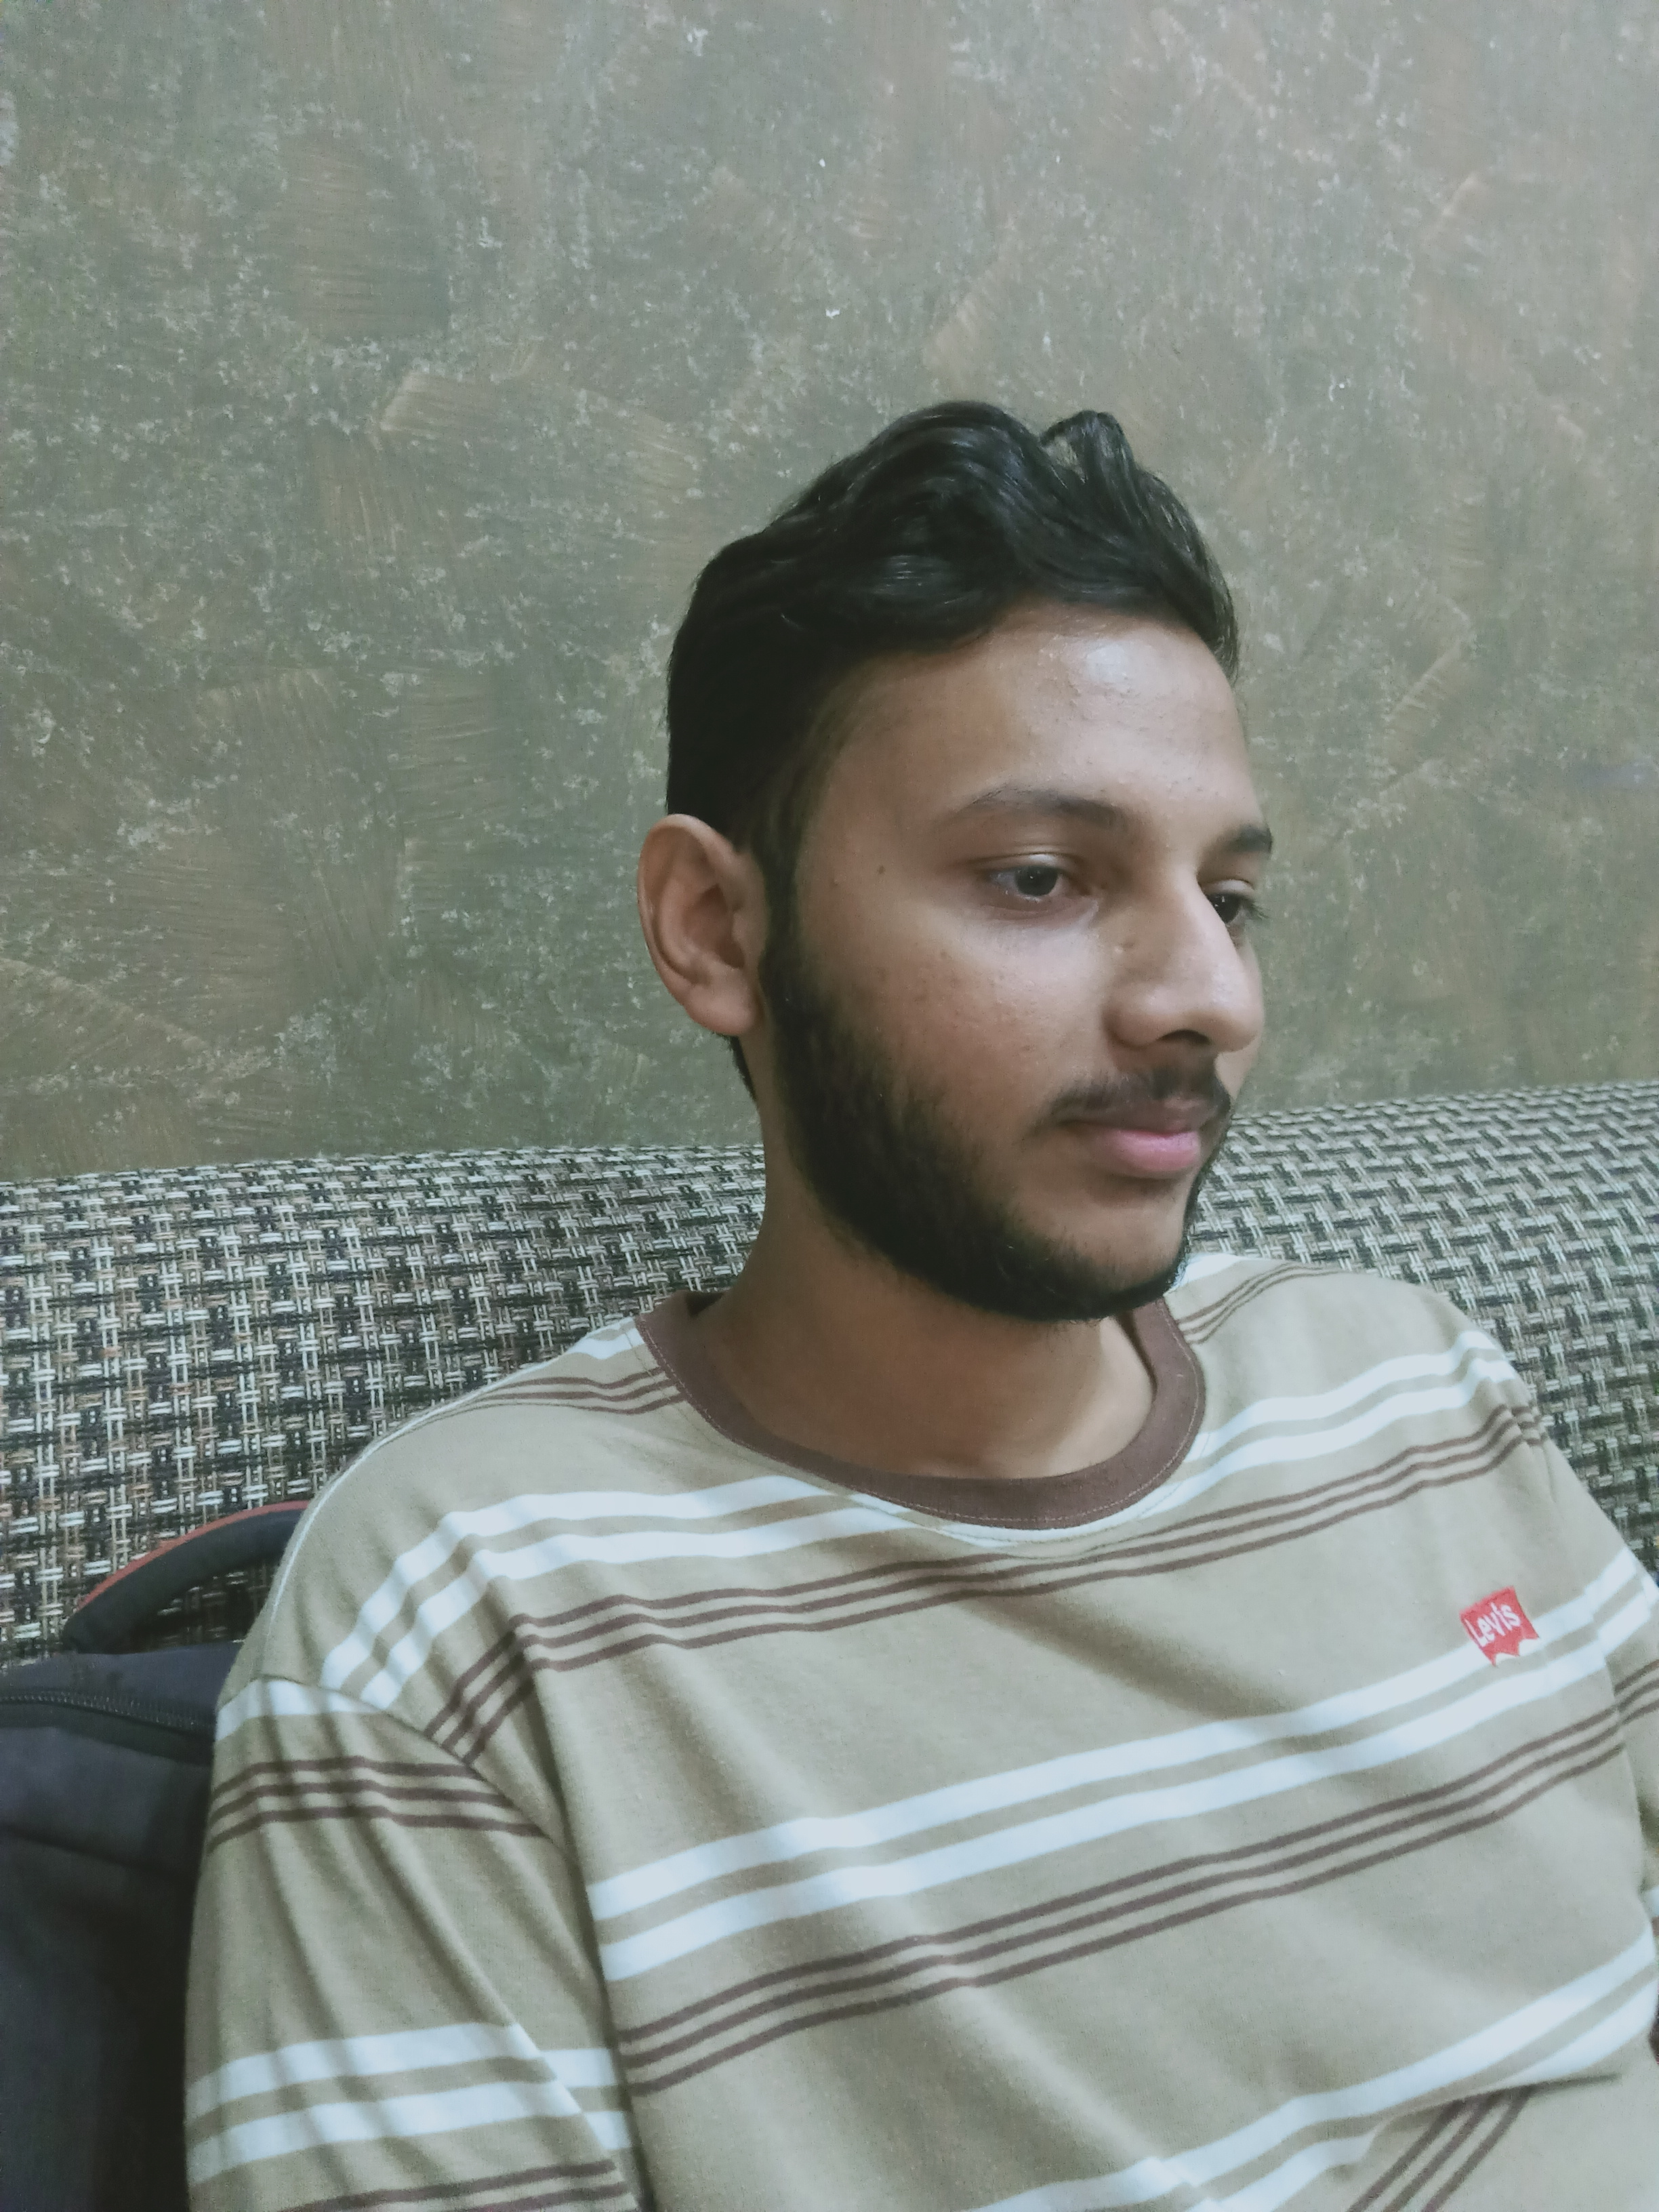NoMask: (911, 764, 1263, 1299)
